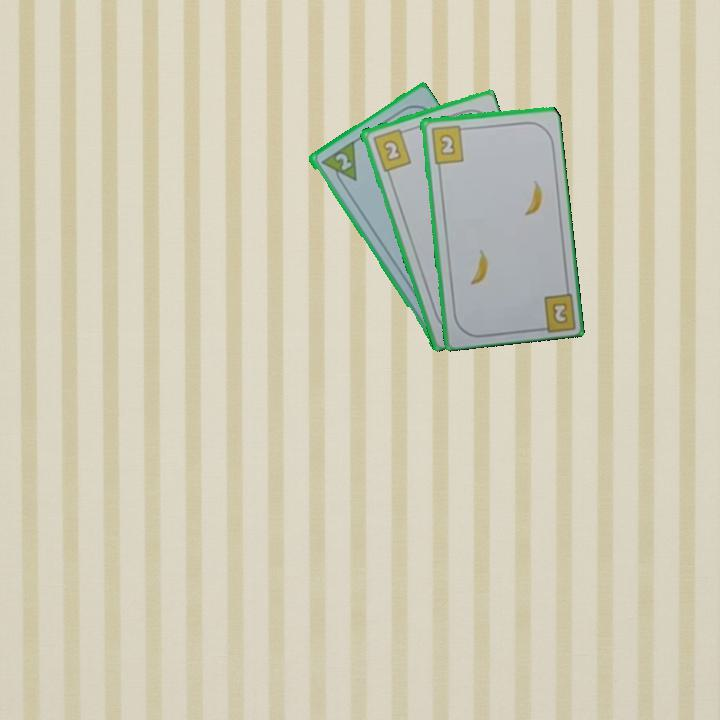2b: (369, 125, 414, 174), (427, 121, 469, 166), (548, 299, 571, 327)
2p: (317, 138, 360, 191)
